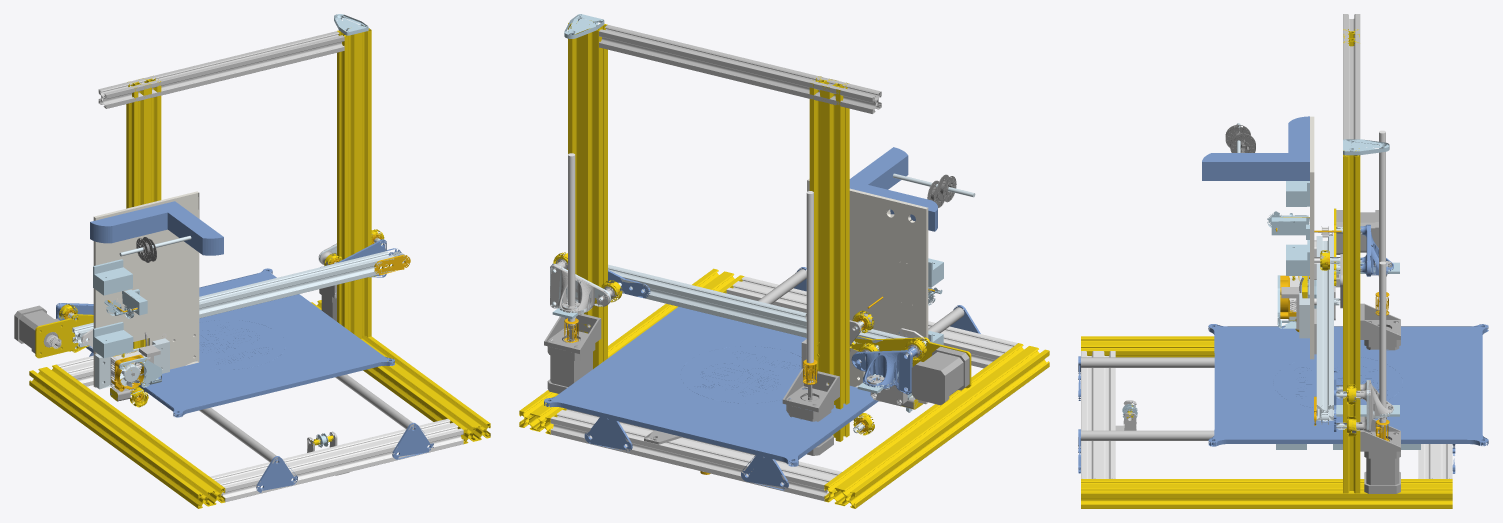
The model's file is micro_waam.glb.
3 renders of one model, left to right at view 1: azimuth 30°, elevation 25°; view 2: azimuth 150°, elevation 25°; view 3: azimuth 270°, elevation 25°, orthographic. The views are drawn at different scales.
Parts seen in each view (by area): view 1: small_merged_170, small_merged_256, part_13, small_merged_137, small_merged_154, small_merged_19, small_merged_145, part_234, small_merged_111, part_238, small_merged_233, part_18 (+1 smaller); view 2: small_merged_170, small_merged_256, small_merged_154, part_14, small_merged_137, small_merged_111, small_merged_19, part_238, part_234, small_merged_145, small_merged_233, small_merged_15; view 3: small_merged_256, small_merged_170, small_merged_154, small_merged_137, small_merged_111, small_merged_145, small_merged_19, part_238, part_234, small_merged_15, small_merged_233, small_merged_12.
Boxes of the visible parts, x1,y1,x2,y2 form: small_merged_170: [29, 28, 490, 508]; small_merged_256: [56, 201, 433, 492]; part_13: [95, 193, 199, 387]; small_merged_137: [98, 31, 415, 475]; small_merged_154: [46, 328, 463, 502]; small_merged_19: [68, 236, 405, 396]; small_merged_145: [93, 14, 368, 447]; part_234: [191, 320, 285, 369]; small_merged_111: [14, 237, 376, 401]; part_238: [148, 270, 394, 414]; small_merged_233: [63, 233, 410, 402]; part_18: [99, 342, 169, 389]; small_merged_170: [519, 20, 1049, 508]; small_merged_256: [544, 147, 980, 490]; small_merged_154: [550, 153, 1017, 500]; part_14: [807, 180, 926, 404]; small_merged_137: [550, 25, 964, 457]; small_merged_111: [544, 259, 969, 455]; small_merged_19: [550, 173, 975, 433]; part_238: [545, 349, 873, 462]; part_234: [680, 347, 805, 403]; small_merged_145: [552, 14, 943, 412]; small_merged_233: [562, 255, 934, 474]; small_merged_15: [807, 178, 928, 403]; small_merged_256: [1078, 116, 1488, 473]; small_merged_170: [1081, 29, 1452, 508]; small_merged_154: [1081, 130, 1452, 478]; small_merged_137: [1081, 14, 1393, 440]; small_merged_111: [1288, 210, 1400, 493]; small_merged_145: [1122, 139, 1420, 449]; small_merged_19: [1236, 123, 1393, 431]; part_238: [1209, 326, 1487, 442]; part_234: [1274, 355, 1402, 407]; small_merged_15: [1310, 116, 1314, 359]; small_merged_233: [1276, 217, 1388, 441]; small_merged_12: [1225, 125, 1255, 152].
Bounding box in the file's own units: 0.5367 × 0.458 × 0.4744.
